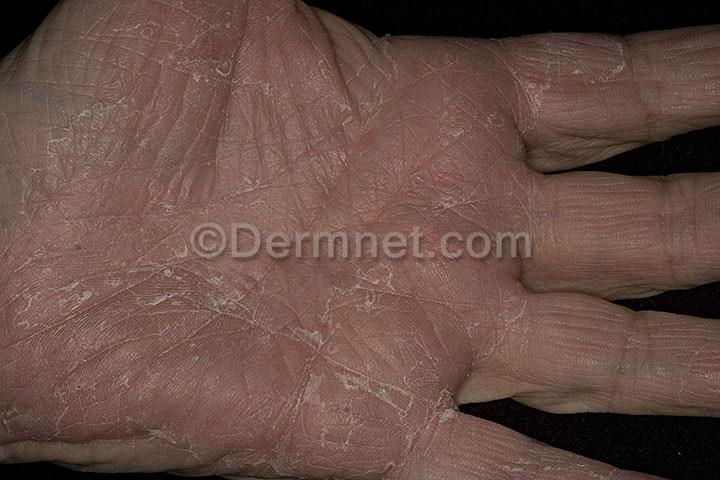Eczema: (307, 137, 509, 373), (119, 0, 316, 177), (123, 178, 303, 358), (0, 98, 128, 309), (150, 366, 362, 478), (322, 37, 529, 133), (0, 336, 123, 461), (351, 368, 458, 474), (531, 29, 647, 120), (441, 422, 604, 480)
